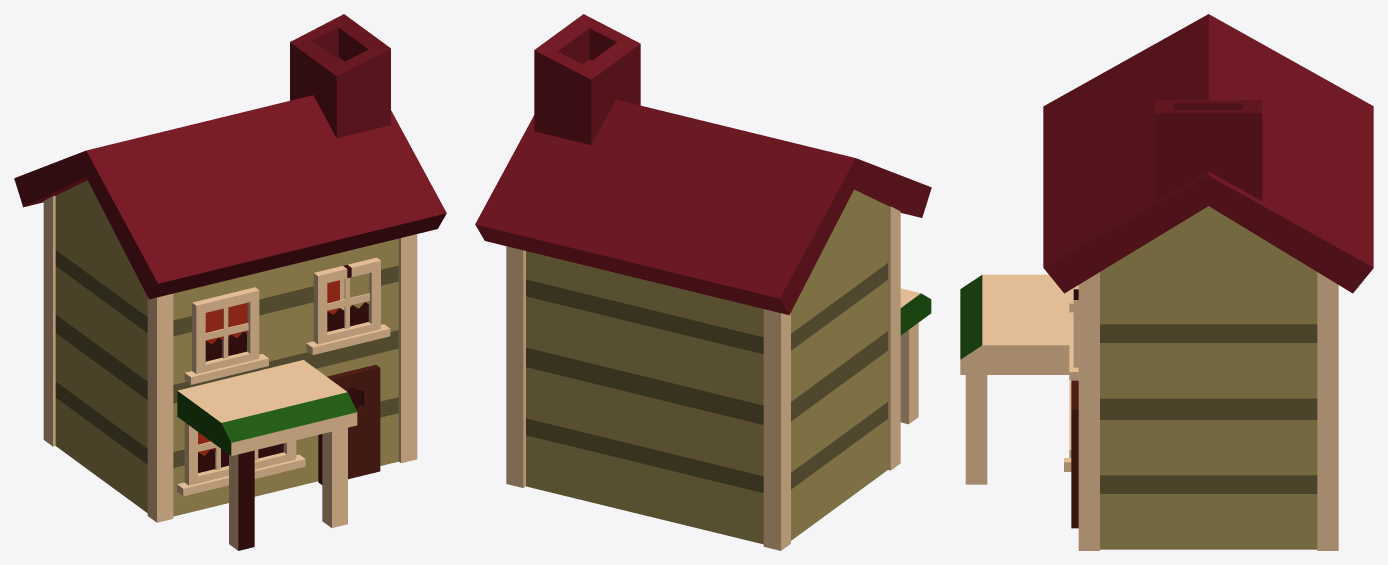
File: House2.FBX
3 renders of one model, left to right at view 1: azimuth 30°, elevation 25°; view 2: azimuth 150°, elevation 25°; view 3: azimuth 270°, elevation 25°, orthographic. The views are drawn at different scales.
Visible parts, largest first — view 1: House2; view 2: House2; view 3: House2.
Part boxes in pixels (x1,y1,x2,y2): House2: [14, 14, 446, 550]; House2: [475, 14, 931, 550]; House2: [960, 14, 1373, 550].
Size of the model in its own units: 266 by 339 by 288.
